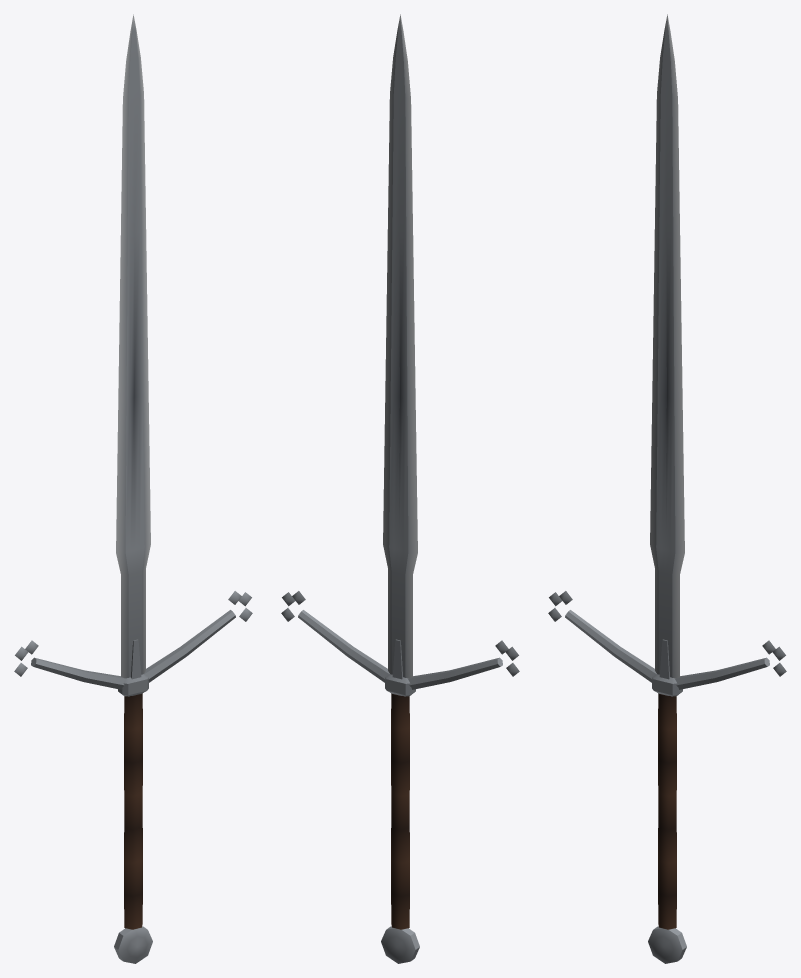
File: claymore.glb
3 views of the same model, side by side, from view 1: azimuth 30°, elevation 25°; view 2: azimuth 150°, elevation 25°; view 3: azimuth 330°, elevation 25° (orthographic).
Visible parts, largest first — view 1: claymore; view 2: claymore; view 3: claymore.
Part boxes in pixels (<box>): claymore: <box>14,14,252,963</box>; claymore: <box>281,14,519,963</box>; claymore: <box>548,14,786,963</box>.
Size of the model in its own units: 0.395 by 1.5 by 0.025.
